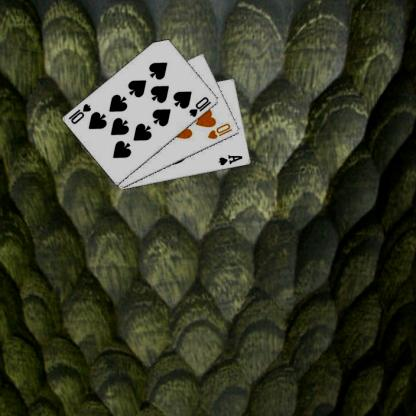10H: (207, 120, 235, 140)
10S: (188, 94, 214, 118), (68, 101, 94, 125)
AS: (218, 152, 246, 166)
